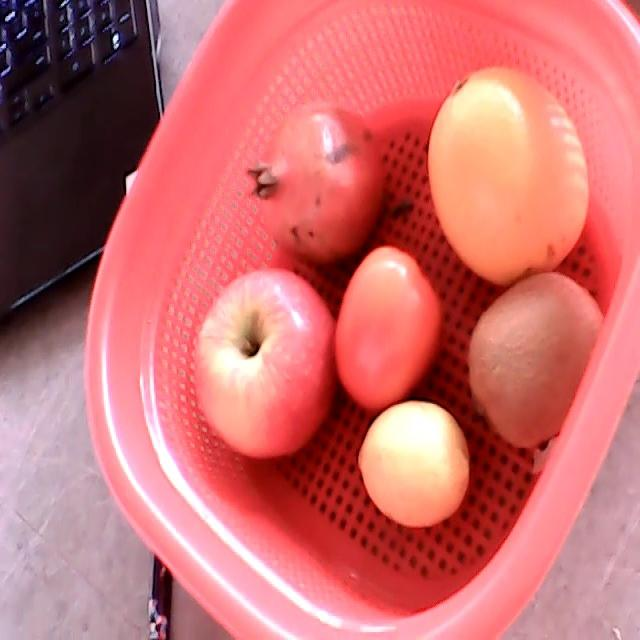apple: (192, 266, 335, 464)
kiwi: (469, 271, 602, 457)
lemon: (358, 401, 470, 528)
orange: (427, 66, 592, 285)
pomegranate: (246, 103, 387, 269)
tomato: (335, 243, 444, 412)
